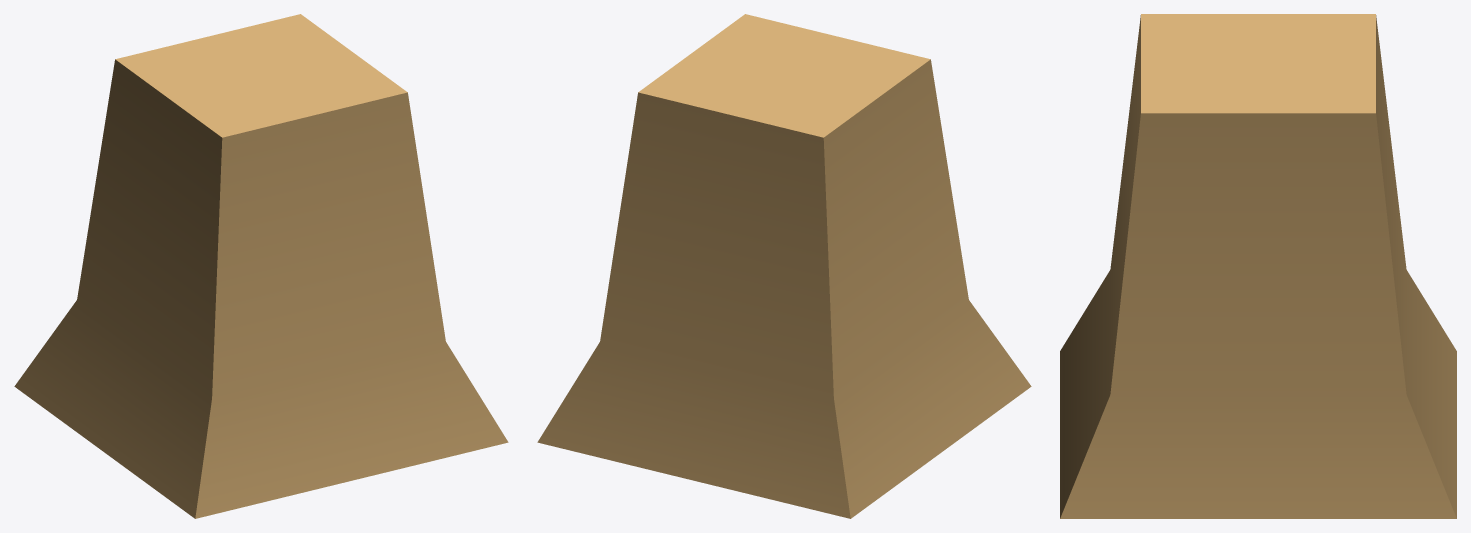
File: Trunk_02.fbx
3 renders of one model, left to right at view 1: azimuth 30°, elevation 25°; view 2: azimuth 150°, elevation 25°; view 3: azimuth 270°, elevation 25°, orthographic. The views are drawn at different scales.
Visible parts, largest first — view 1: Mesh1_Trunk Model; view 2: Mesh1_Trunk Model; view 3: Mesh1_Trunk Model.
Boxes of the visible parts, bbox=[...] form: Mesh1_Trunk Model: bbox=[14, 14, 508, 518]; Mesh1_Trunk Model: bbox=[537, 14, 1031, 518]; Mesh1_Trunk Model: bbox=[1060, 14, 1456, 518].
Bounding box in the file's own units: 0.8037 × 0.83 × 0.8037.
